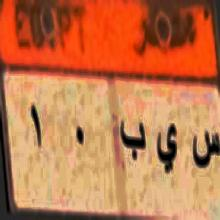0: (73, 116, 87, 157)
1: (29, 99, 45, 158)
baa: (120, 116, 146, 164)
seen: (191, 124, 220, 174)
yaa: (155, 119, 179, 182)
